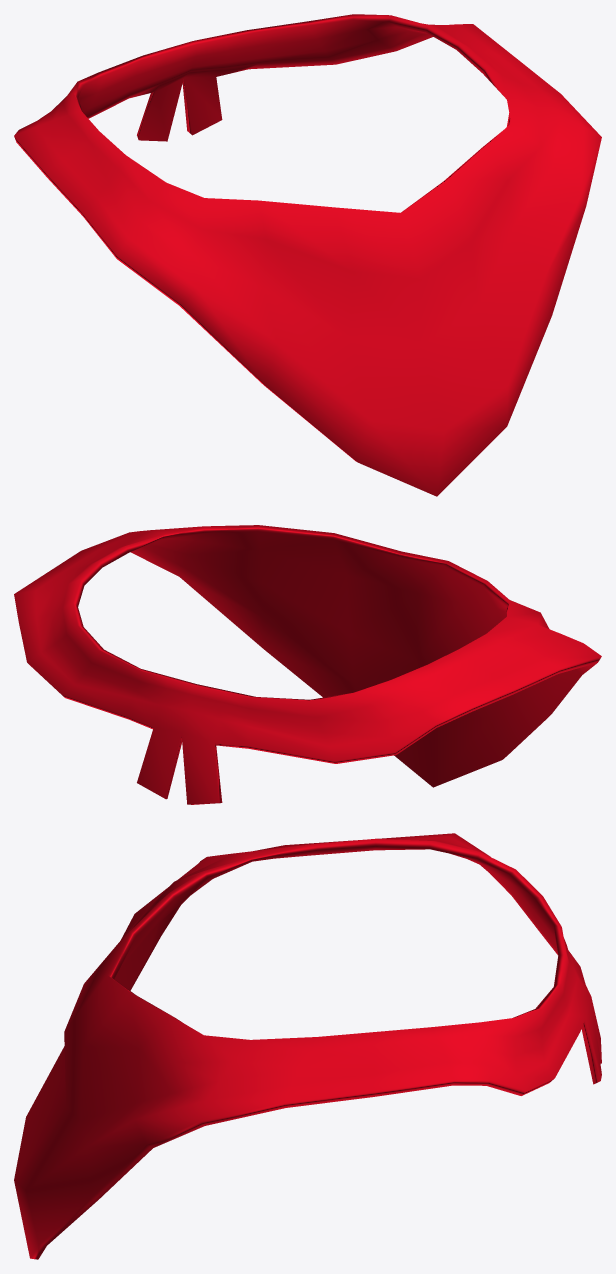
File: CU_Bandana.fbx
3 views of the same model, one above another, from view 1: azimuth 30°, elevation 25°; view 2: azimuth 150°, elevation 25°; view 3: azimuth 270°, elevation 25° (orthographic). The views are drawn at different scales.
Visible parts, largest first — view 1: Bandana; view 2: Bandana; view 3: Bandana.
Part boxes in pixels (<box>): Bandana: <box>14,14,601,496</box>; Bandana: <box>14,525,601,804</box>; Bandana: <box>14,833,601,1259</box>.
Size of the model in its own units: 110 by 64.29 by 105.
